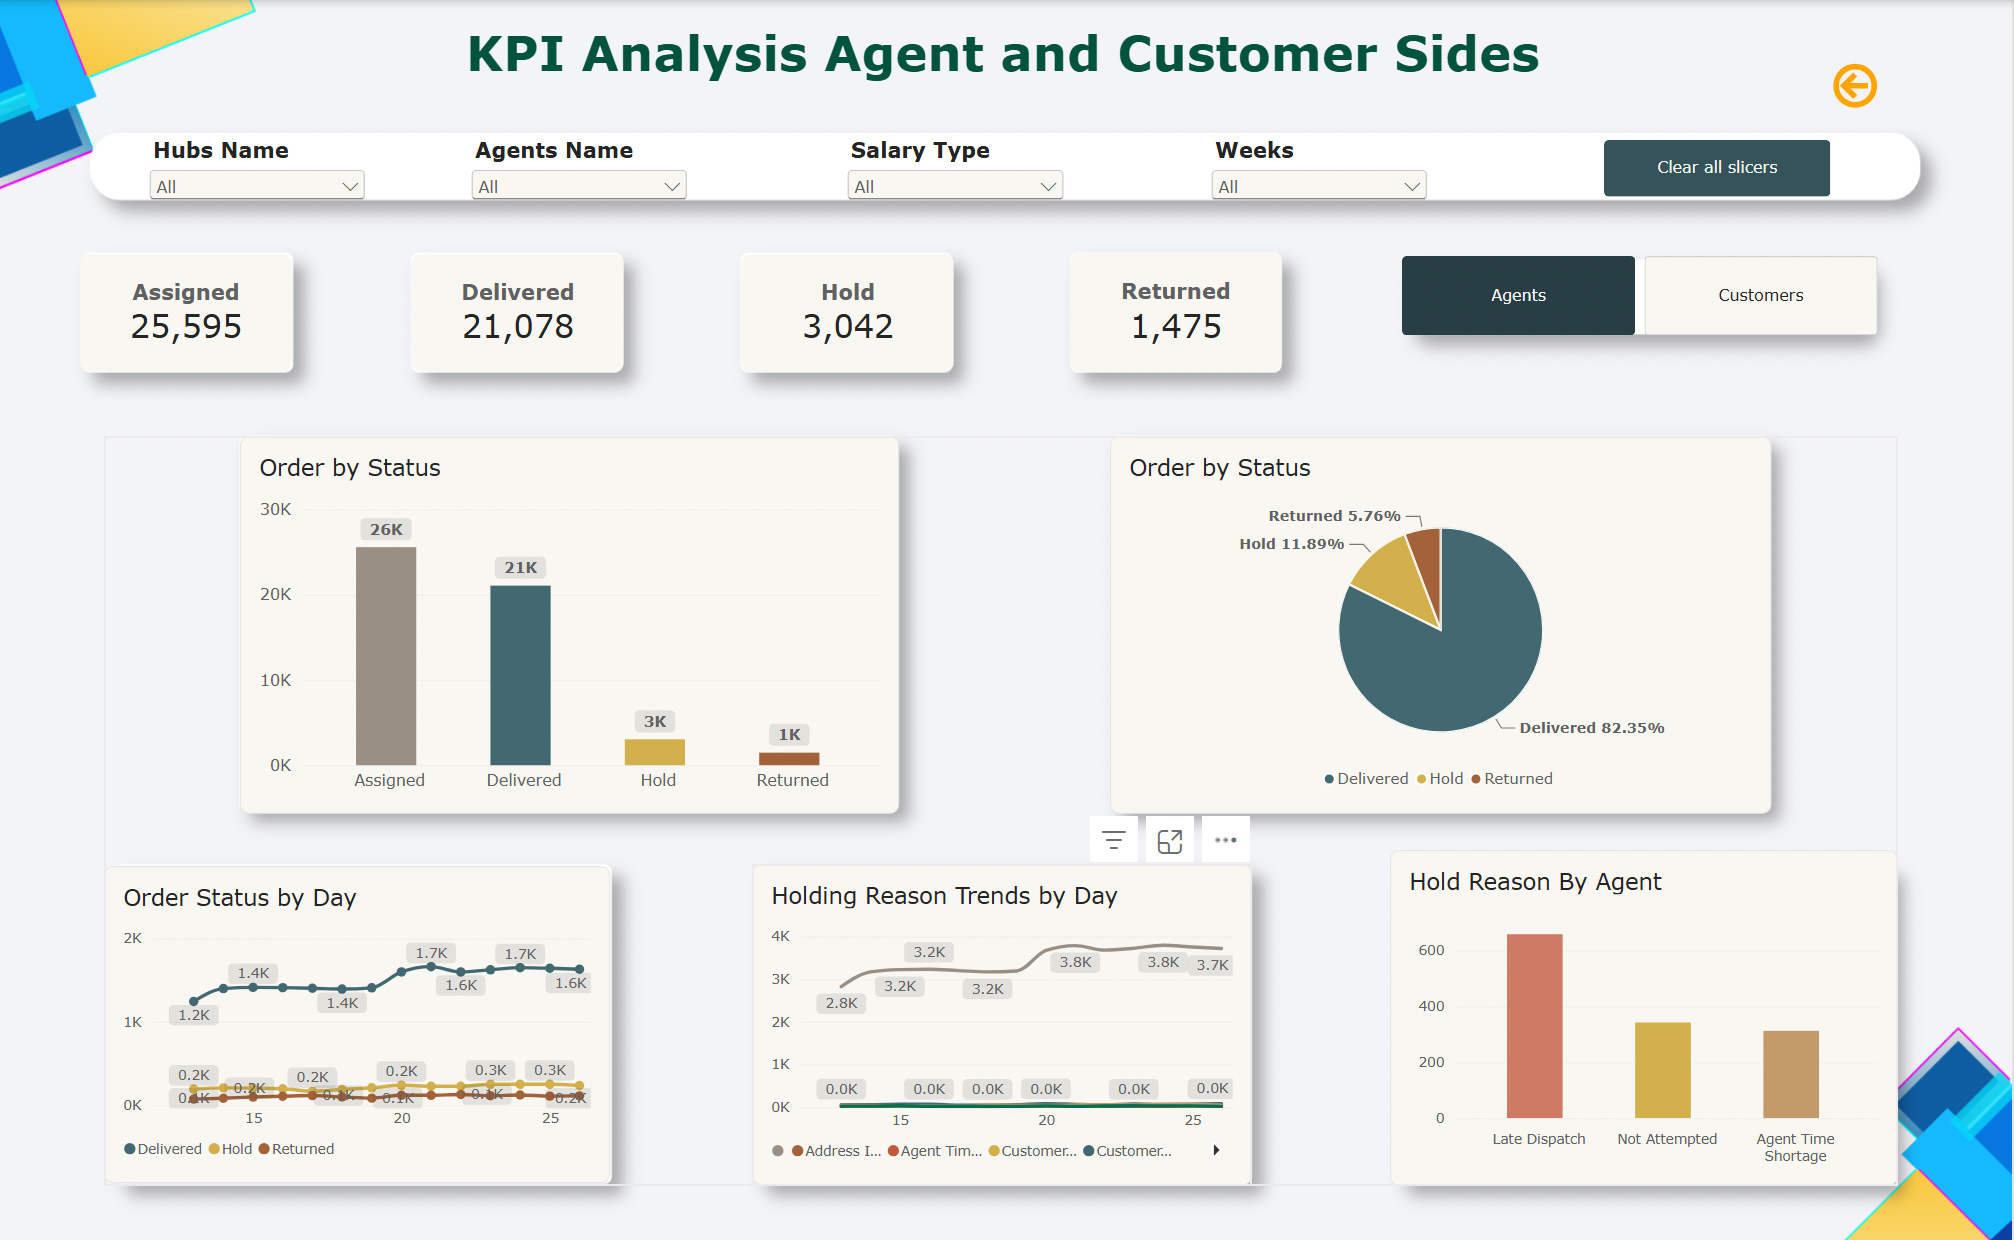

Layout of this report page (visuals, bound fields, positions):
{"tool":"powerbi","page":{"name":"kpi_Analysis","canvas":[1780,1100],"ordinal":1},"visuals":[{"type":"cardVisual","fields":{"Data":["order_logs.Assigned"]},"box":[74.5,219.9,187.9,104.6],"z":0},{"type":"columnChart","title":"Order by Status","fields":{"Category":["order_logs.status"],"Y":["CountNonNull(order_logs.status)"]},"box":[215.6,380.4,582.1,333.6],"z":0,"group":"g1"},{"type":"cardVisual","fields":{"Data":["order_logs.Delivered"]},"box":[367,219.9,187.9,104.6],"z":1000},{"type":"pieChart","title":"Order by Status","fields":{"Category":["order_logs.status"],"Y":["CountNonNull(order_logs.status)"]},"box":[983.7,380.4,583.9,333.6],"z":1000,"group":"g1"},{"type":"cardVisual","fields":{"Data":["order_logs.Hold"]},"box":[657.7,219.9,187.9,104.6],"z":2000},{"type":"lineChart","title":"Order Status by Day","fields":{"Category":["order_logs.event_time.Variation.Date Hierarchy.Day"],"Series":["order_logs.status"],"Y":["CountNonNull(order_logs.status)"]},"box":[95.9,759.4,446.8,280.1],"z":2000,"group":"g1"},{"type":"cardVisual","fields":{"Data":["order_logs.Returned"]},"box":[948.5,218.2,187.9,106.4],"z":3000},{"type":"columnChart","title":"Hold Reason By Agent","fields":{"Category":["order_logs.hold_reason"],"Y":["CountNonNull(order_logs.hold_reason)"]},"box":[1230.6,758.6,448.5,296.1],"z":3000,"group":"g1"},{"type":"slicer","fields":{"Values":["hubs.hub_name"]},"box":[131.2,115.2,200,60.3],"z":4000},{"type":"columnChart","title":"Active agents by Type","fields":{"Category":["agents.salary_type"],"Y":["order_logs.total_active_agnets"]},"box":[668.5,758.6,441.5,283.7],"z":4000,"group":"g1"},{"type":"slicer","fields":{"Values":["agents.agent_name"]},"box":[414.9,115.2,200,60.3],"z":5000},{"type":"slicer","fields":{"Values":["agents.salary_type"]},"box":[746.4,115.2,200.3,60.3],"z":6000},{"type":"slicer","fields":{"Values":["order_logs.weeks"]},"box":[1069.1,115.2,200,60],"z":7000},{"type":"actionButton","box":[1419.7,119.9,200,50],"z":8000},{"type":"group","id":"g1","title":"Agents","box":[95.9,380.4,1583.2,674.3],"z":10000},{"type":"bookmarkNavigator","box":[1240.8,220.7,411.8,71.2],"z":11000},{"type":"actionButton","box":[1590,46.9,100.8,48.7],"z":12000}]}

Visuals, with their boxes in screenshot pixels (x1, y1, x2, y2), scaled from the page's 1780x1100 canvas onto the 2014x1240 screenshot:
cardVisual - order_logs.Assigned: detection(84, 248, 297, 366)
"Order by Status" columnChart: detection(244, 429, 903, 805)
cardVisual - order_logs.Delivered: detection(415, 248, 628, 366)
"Order by Status" pieChart: detection(1113, 429, 1774, 805)
cardVisual - order_logs.Hold: detection(744, 248, 957, 366)
"Order Status by Day" lineChart: detection(109, 856, 614, 1172)
cardVisual - order_logs.Returned: detection(1073, 246, 1286, 366)
"Hold Reason By Agent" columnChart: detection(1392, 855, 1900, 1189)
slicer - hubs.hub_name: detection(148, 130, 375, 198)
"Active agents by Type" columnChart: detection(756, 855, 1256, 1175)
slicer - agents.agent_name: detection(469, 130, 696, 198)
slicer - agents.salary_type: detection(845, 130, 1071, 198)
slicer - order_logs.weeks: detection(1210, 130, 1436, 197)
actionButton: detection(1606, 135, 1833, 192)
"Agents" group: detection(109, 429, 1900, 1189)
bookmarkNavigator: detection(1404, 249, 1870, 329)
actionButton: detection(1799, 53, 1913, 108)
